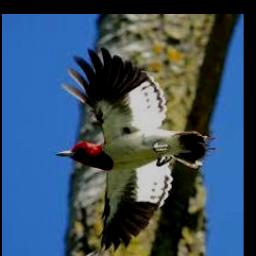Woodpecker: (56, 48, 214, 256)
